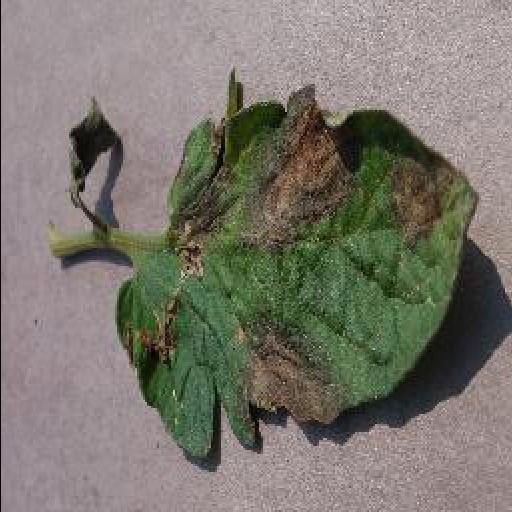disease_tomato: (115, 70, 481, 462)
